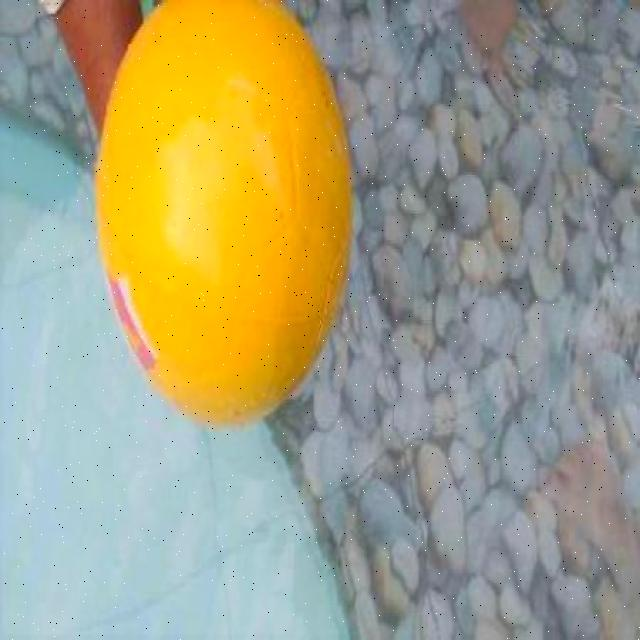buoy: (94, 0, 353, 427)
